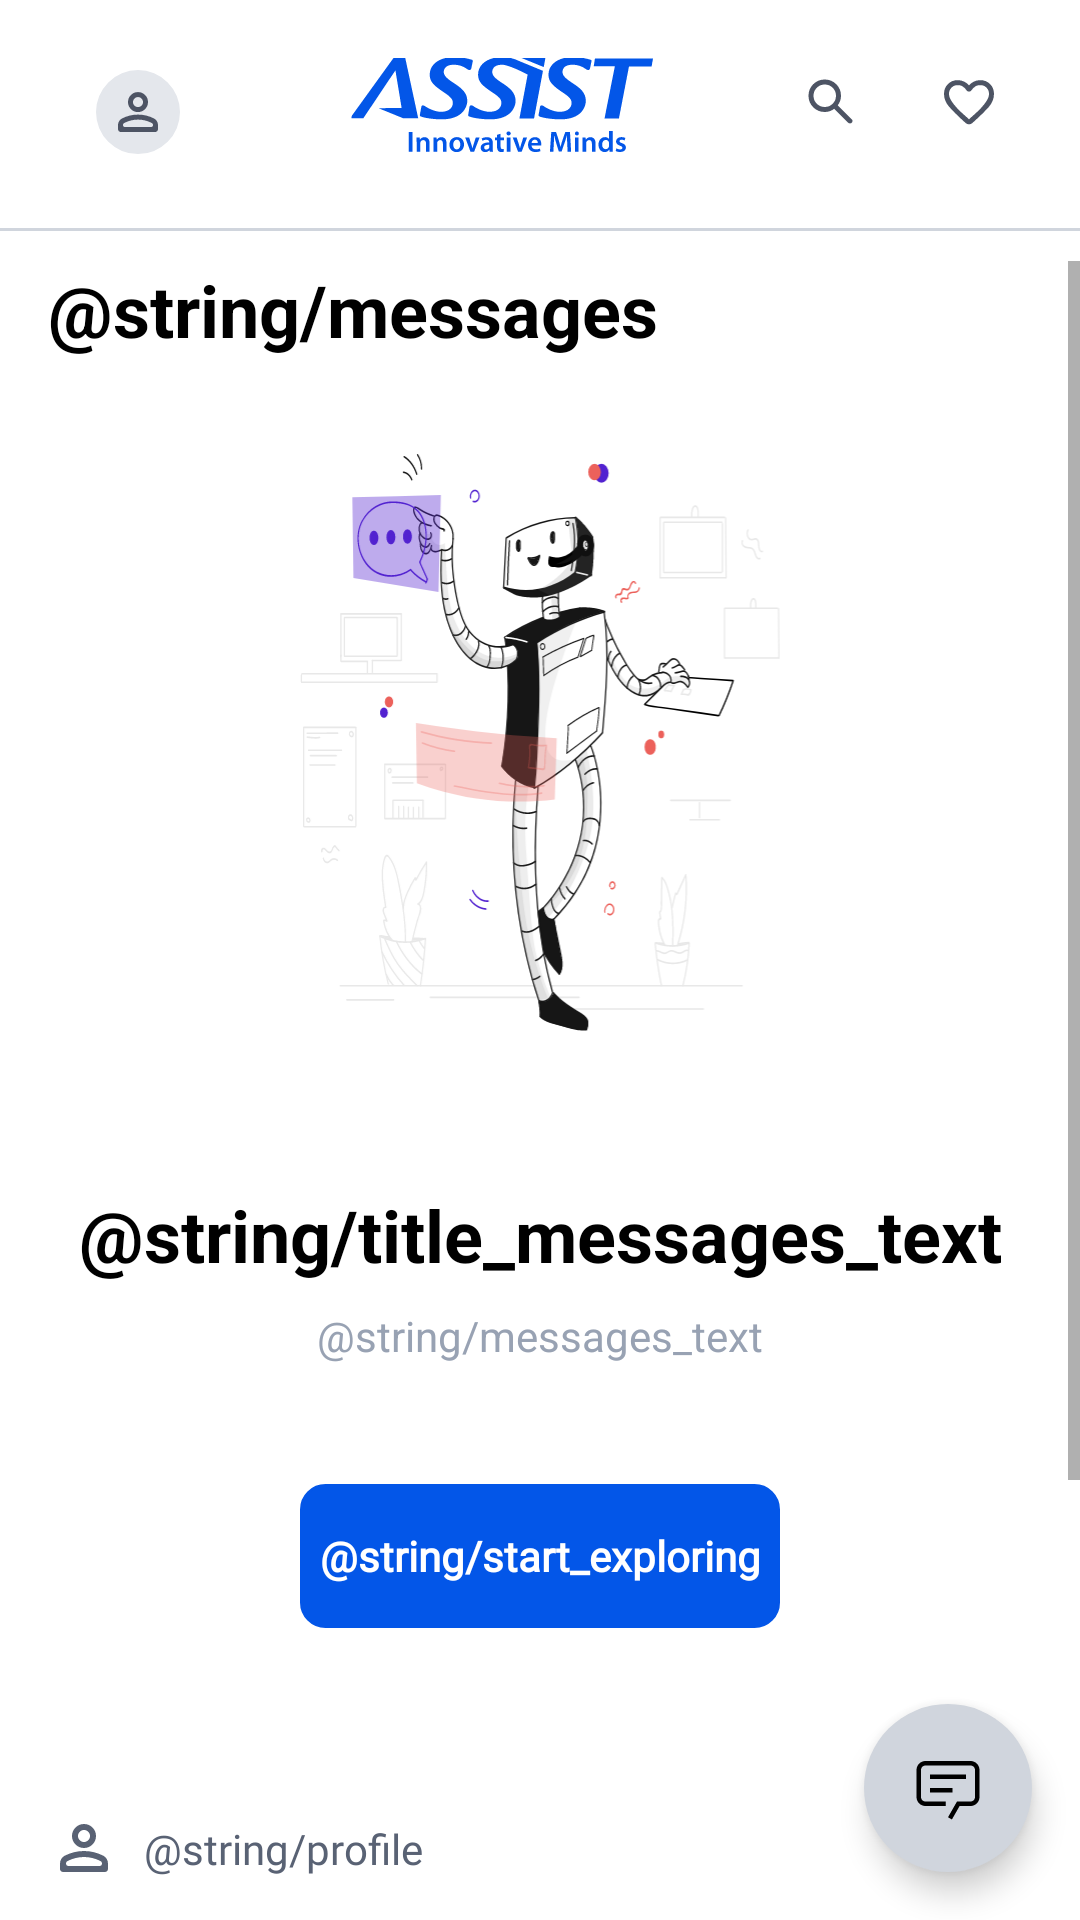

Icon click points for this 1080w x 1920h phone screenshot, format (x=x, y=y):
favourites: (x=969, y=102)
no pfp: (x=138, y=112)
search: (x=830, y=101)
